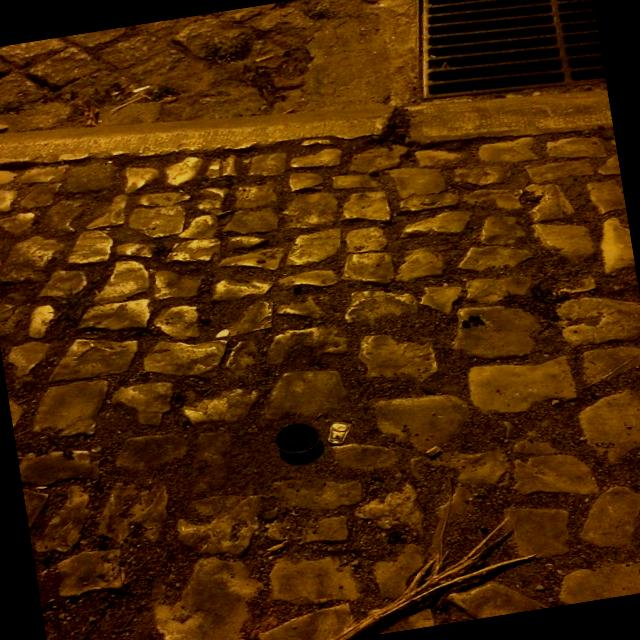Trash: (271, 419, 325, 465)
